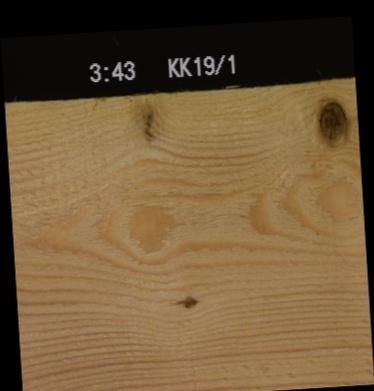dry_knot: (316, 98, 347, 142), (170, 293, 199, 309)
